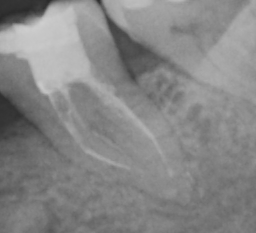fracture: (83, 146, 131, 174)
